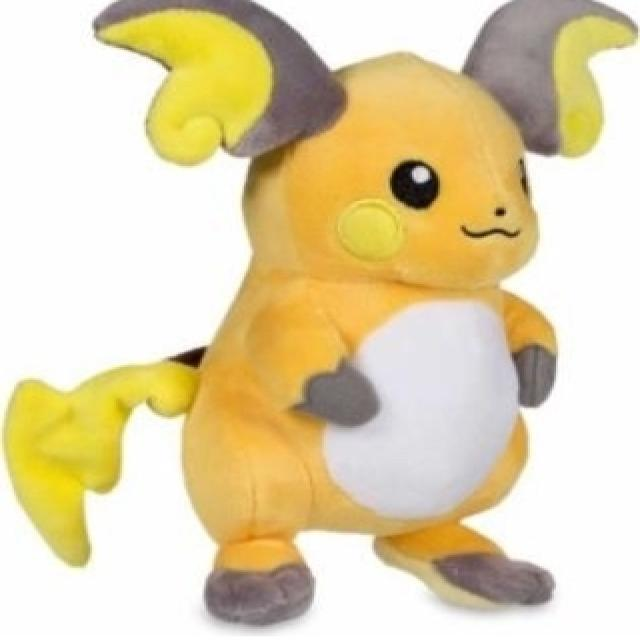Raichu: (112, 6, 627, 621)
